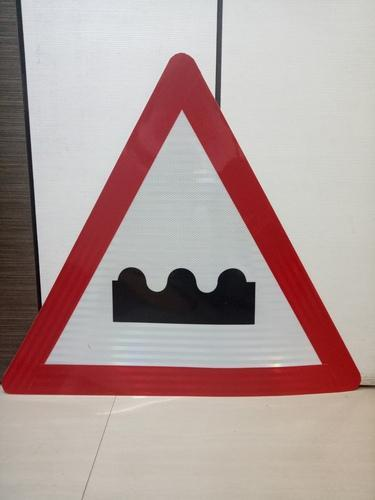speed-breaker: (5, 53, 360, 396)
